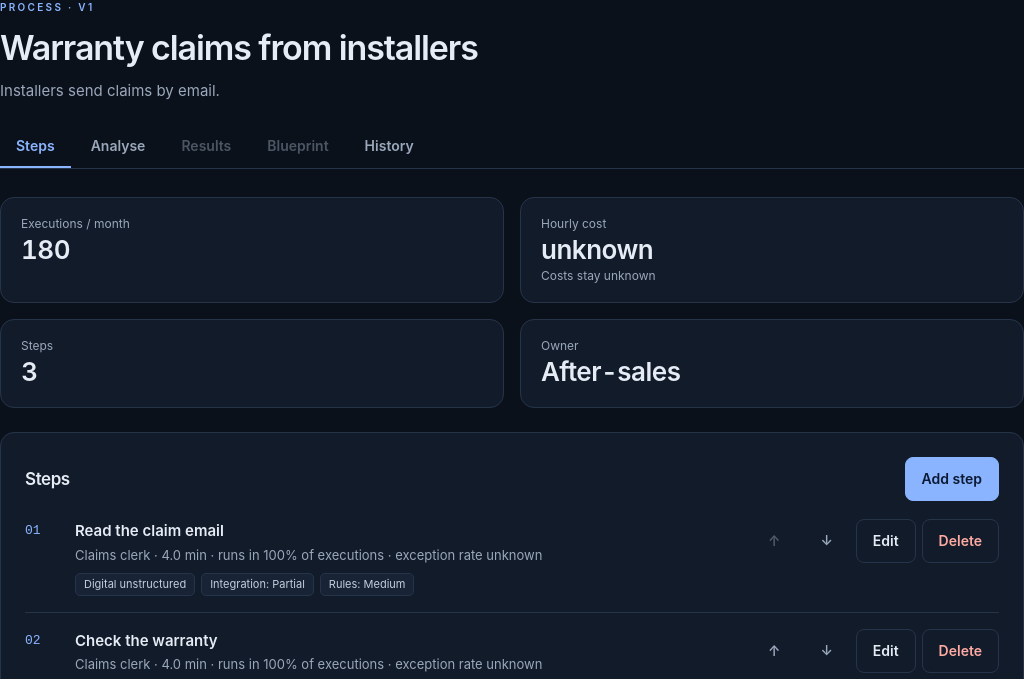
Test: RS-91: deleting a step › keeps the step when the confirmation is withdrawn, with focus back on Delete
Click the button with aria-label "Delete Check the warranty" at (960, 651), box [922,629,999,673]
(page scrolled)
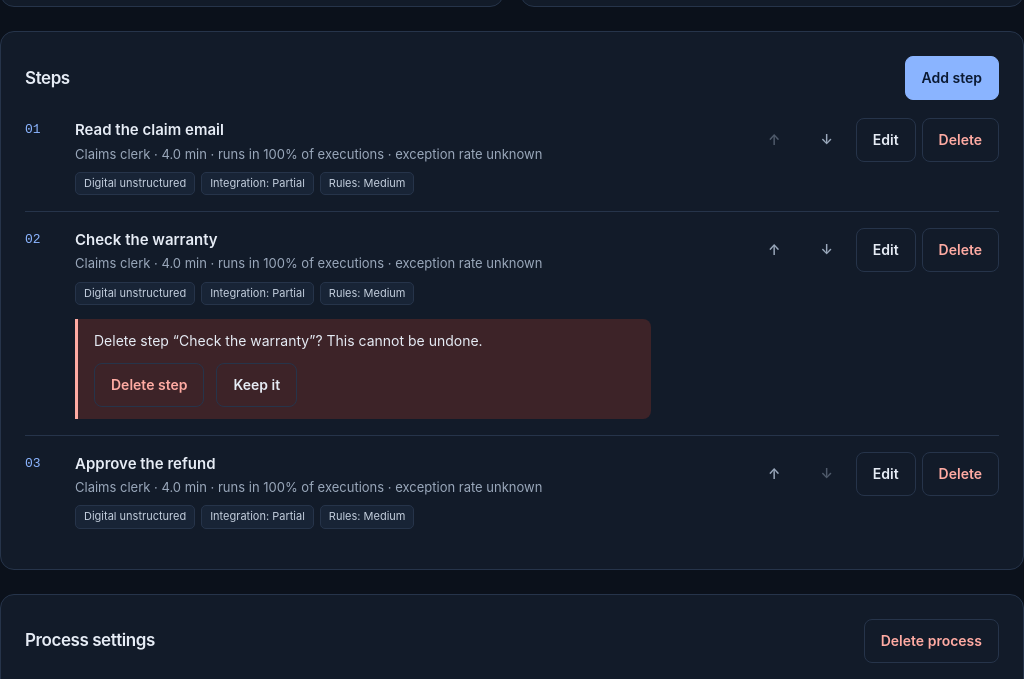
Expected: the button with aria-label "Delete Check the warranty" is expanded, [922,228,999,272]
Click the button "Keep it" at (257, 385), box [216,363,297,407]
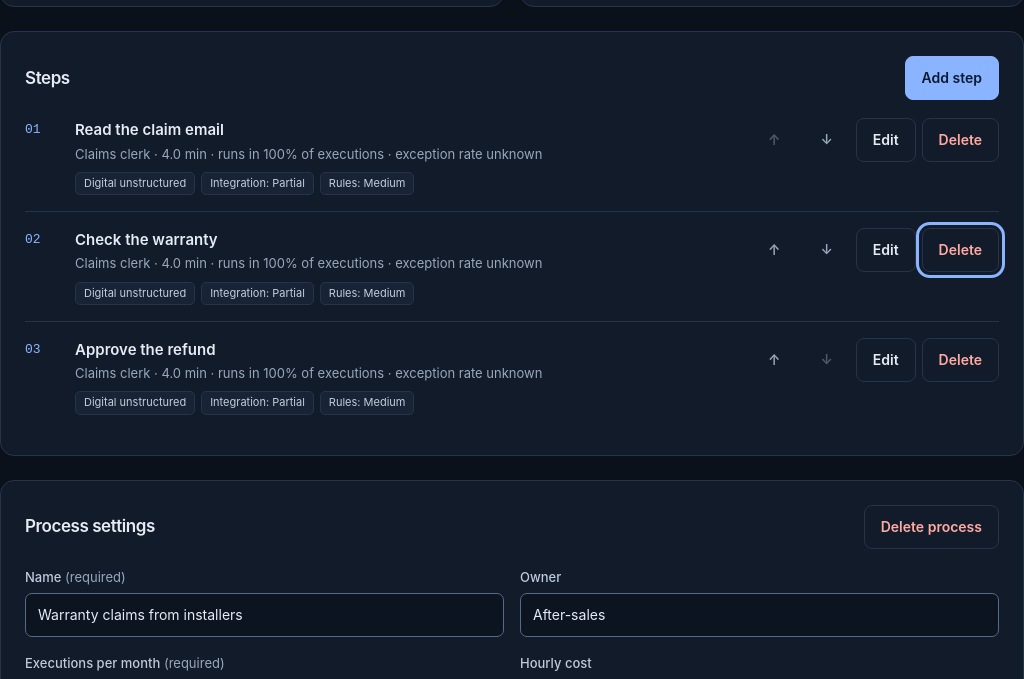
Expected: the text "Delete step" is gone
